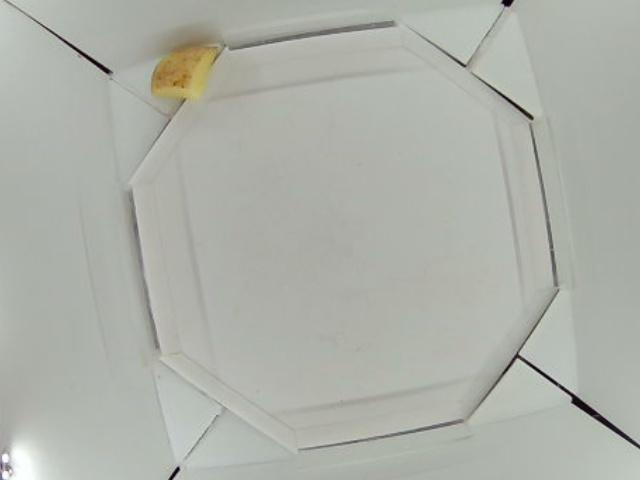Potato: (150, 46, 220, 97)
